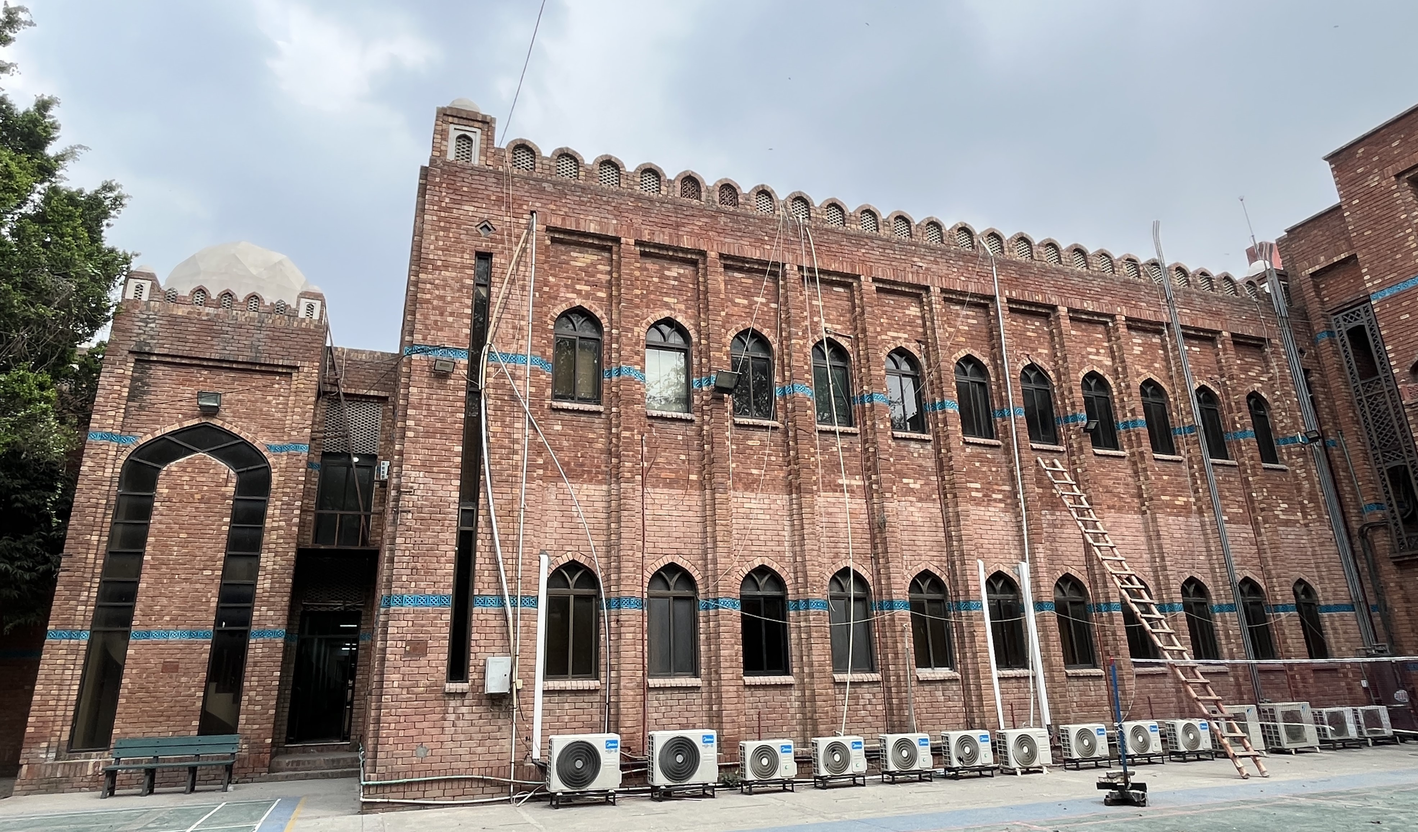Block B: (45, 99, 1404, 742)
